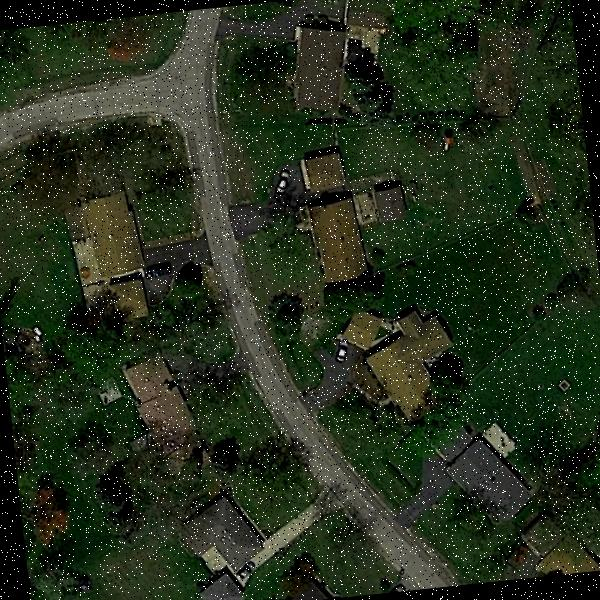Buildings: (76, 193, 147, 318), (112, 357, 204, 451), (348, 313, 454, 393), (450, 427, 519, 522), (282, 14, 346, 115), (185, 501, 259, 567), (308, 202, 366, 282), (534, 532, 600, 576), (297, 152, 347, 188), (338, 0, 393, 32), (366, 184, 408, 219), (194, 576, 253, 600)
